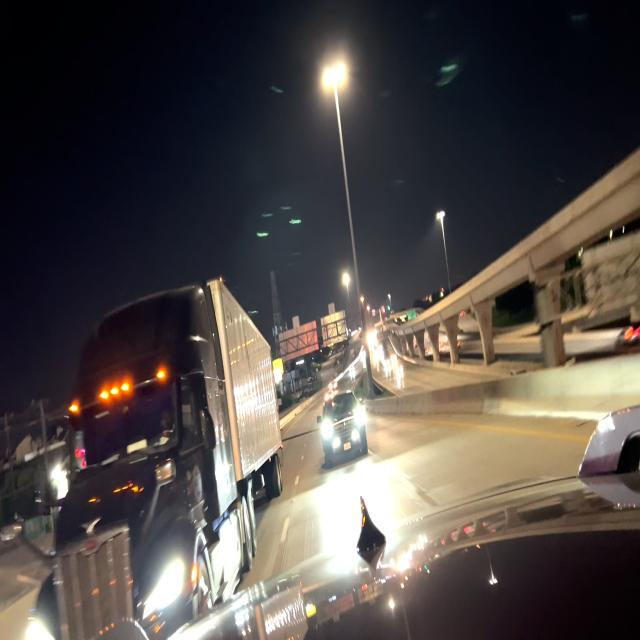back-of-sign: (279, 315, 319, 364), (322, 304, 348, 351)
